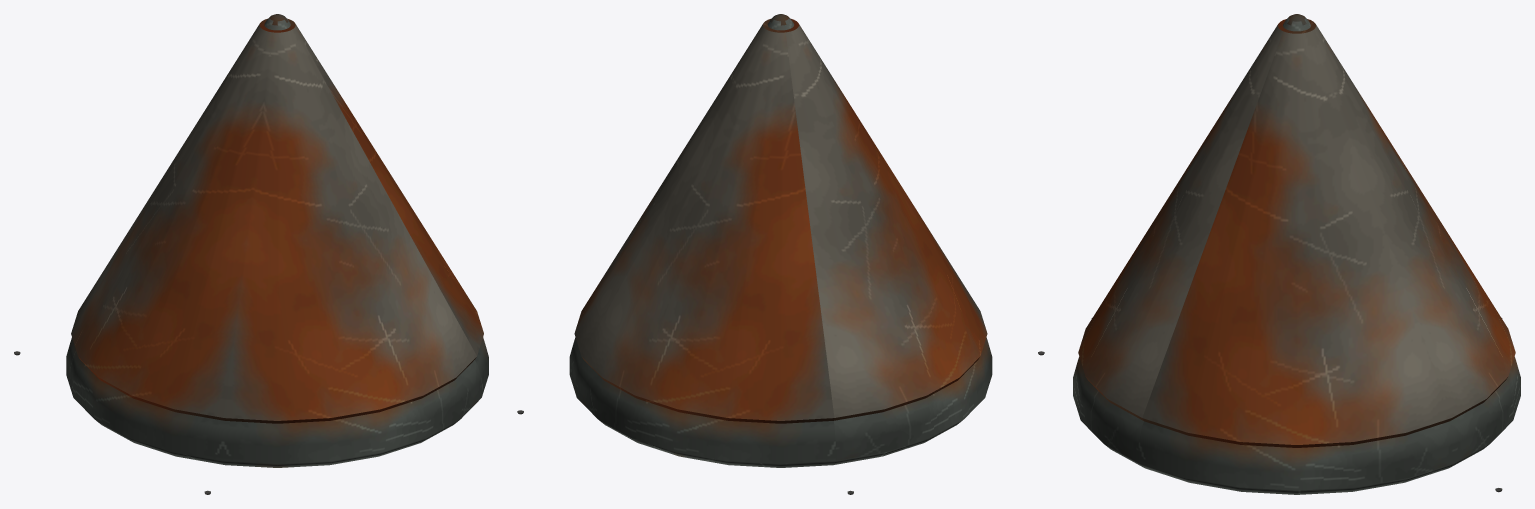
3 renders of one model, left to right at view 1: azimuth 30°, elevation 25°; view 2: azimuth 150°, elevation 25°; view 3: azimuth 270°, elevation 25°, orthographic. The views are drawn at different scales.
Parts seen in each view (by area): view 1: R4B_Cone; view 2: R4B_Cone; view 3: R4B_Cone.
Part boxes in pixels (x1,y1,x2,y2): R4B_Cone: (14,14,488,494); R4B_Cone: (517,14,1044,494); R4B_Cone: (1073,14,1520,494).
Size of the model in its own units: 0.51 by 0.4937 by 0.51.
4 materials, 4 textured.
